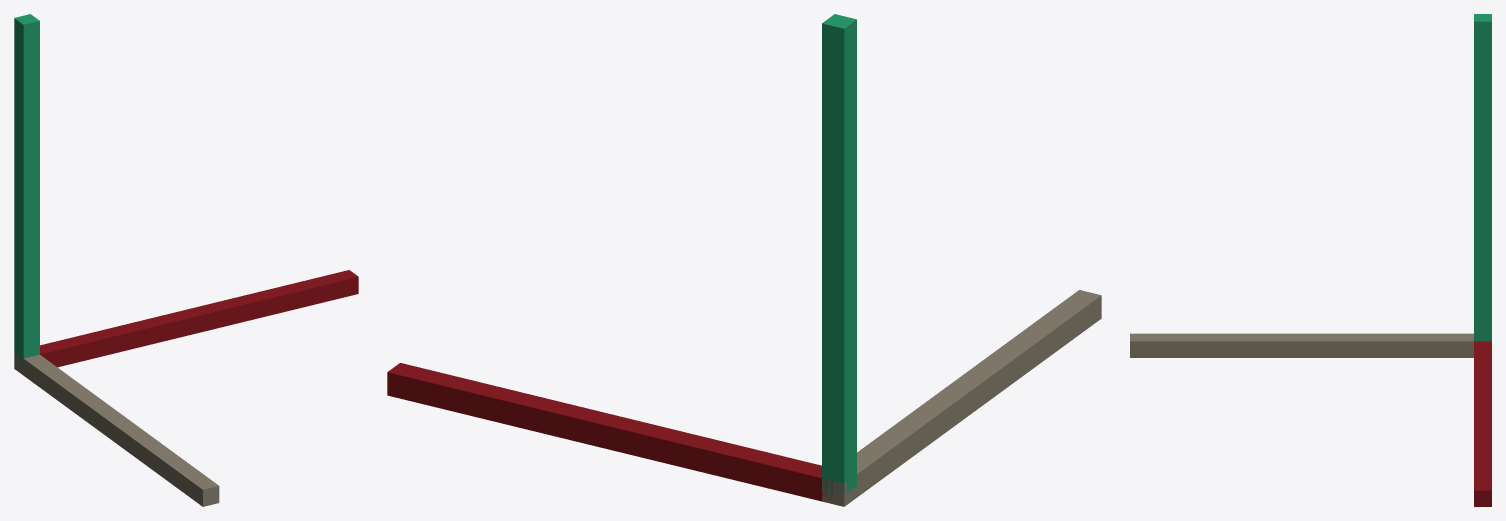
Rendered from SM_AEON_BasisMarker.obj.
3 renders of one model, left to right at view 1: azimuth 30°, elevation 25°; view 2: azimuth 150°, elevation 25°; view 3: azimuth 270°, elevation 25°, orthographic. The views are drawn at different scales.
Parts seen in each view (by area): view 1: SM_AEON_BasisMarker; view 2: SM_AEON_BasisMarker; view 3: SM_AEON_BasisMarker.
Part boxes in pixels (x1,y1,x2,y2): SM_AEON_BasisMarker: (14,14,358,506); SM_AEON_BasisMarker: (387,14,1101,506); SM_AEON_BasisMarker: (1130,14,1491,506).
Size of the model in its own units: 205 by 205 by 200.
